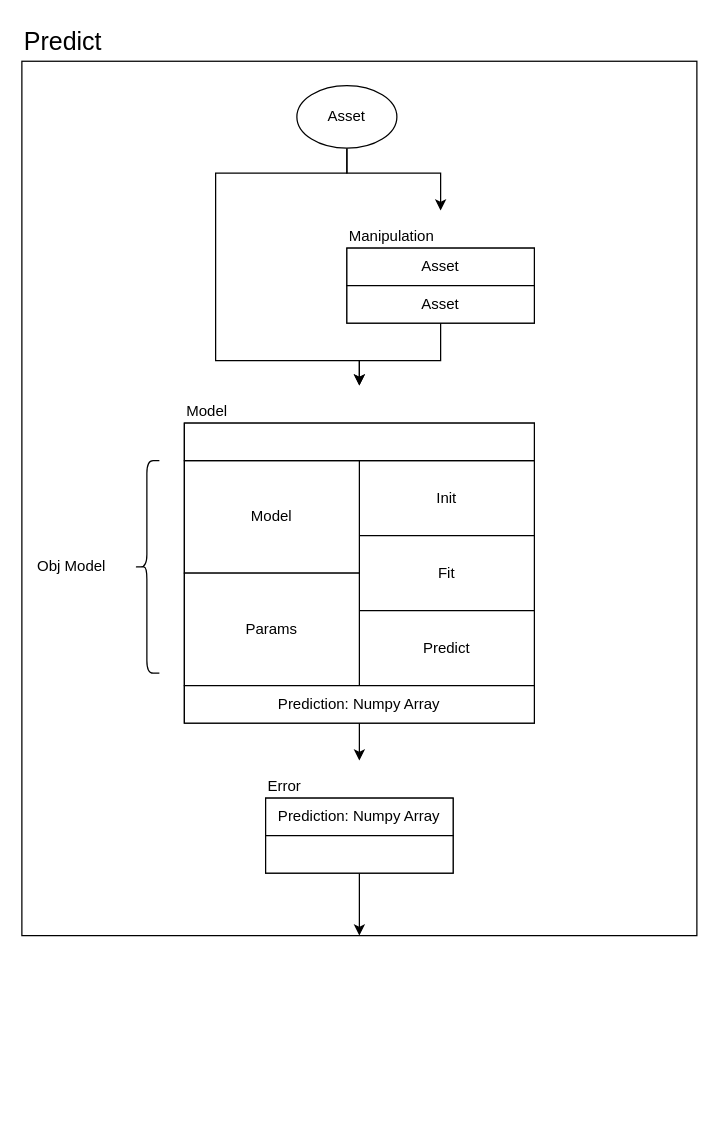
Some shapes in this 719 by 1145 pixel diagram are drawn without their labels. The shapes that lost their labels are listed below. From the top down, each one's centre as x and y in pixels, then its label:
At [358,441]: "Table data: Pandas DataFrame".
At [358,853]: "Error: Float".
